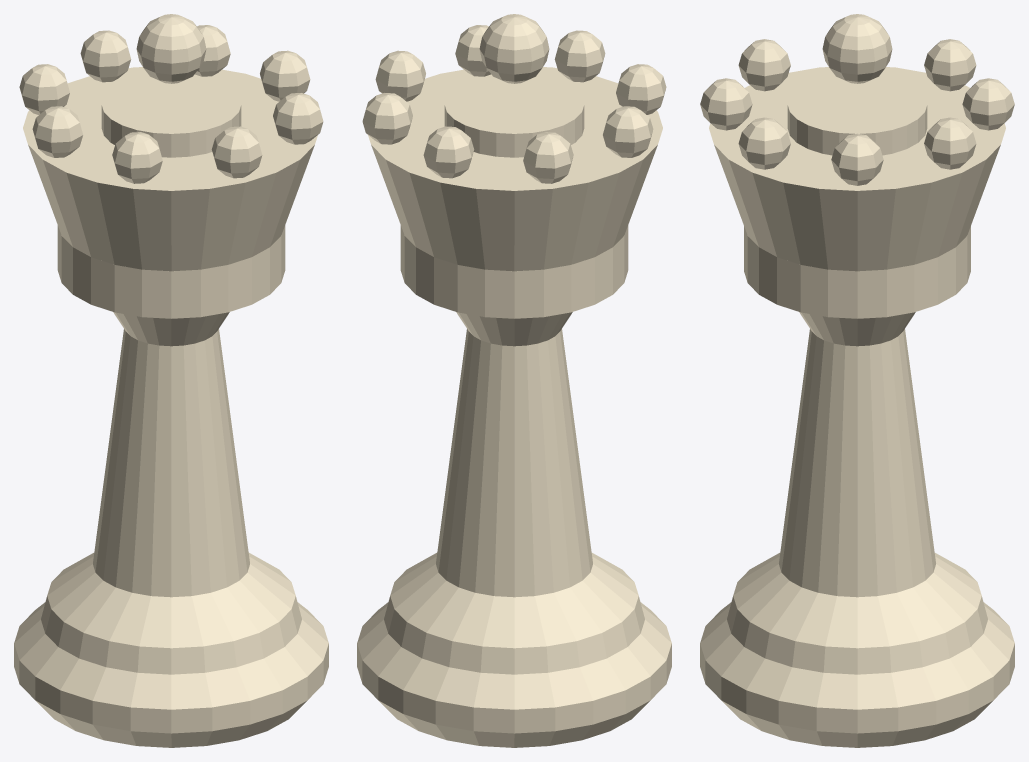
Rendered from chess-queen.glb.
3 renders of one model, left to right at view 1: azimuth 30°, elevation 25°; view 2: azimuth 150°, elevation 25°; view 3: azimuth 270°, elevation 25°, orthographic.
Visible parts, largest first — view 1: queen; view 2: queen; view 3: queen.
Part boxes in pixels (x1=…): queen: x1=14, y1=14, x2=328, y2=747; queen: x1=357, y1=14, x2=671, y2=747; queen: x1=700, y1=14, x2=1014, y2=747.
Size of the model in its own units: 0.036 by 0.085 by 0.036.
